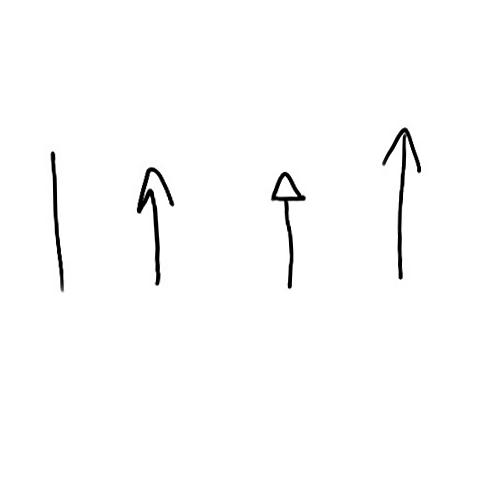arrow: (376, 123, 423, 277), (132, 163, 176, 286), (270, 174, 307, 288)
arrownohead: (47, 150, 71, 288)
